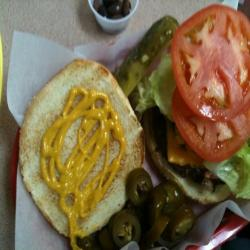bread: (7, 61, 154, 229)
burger: (141, 11, 247, 202)
